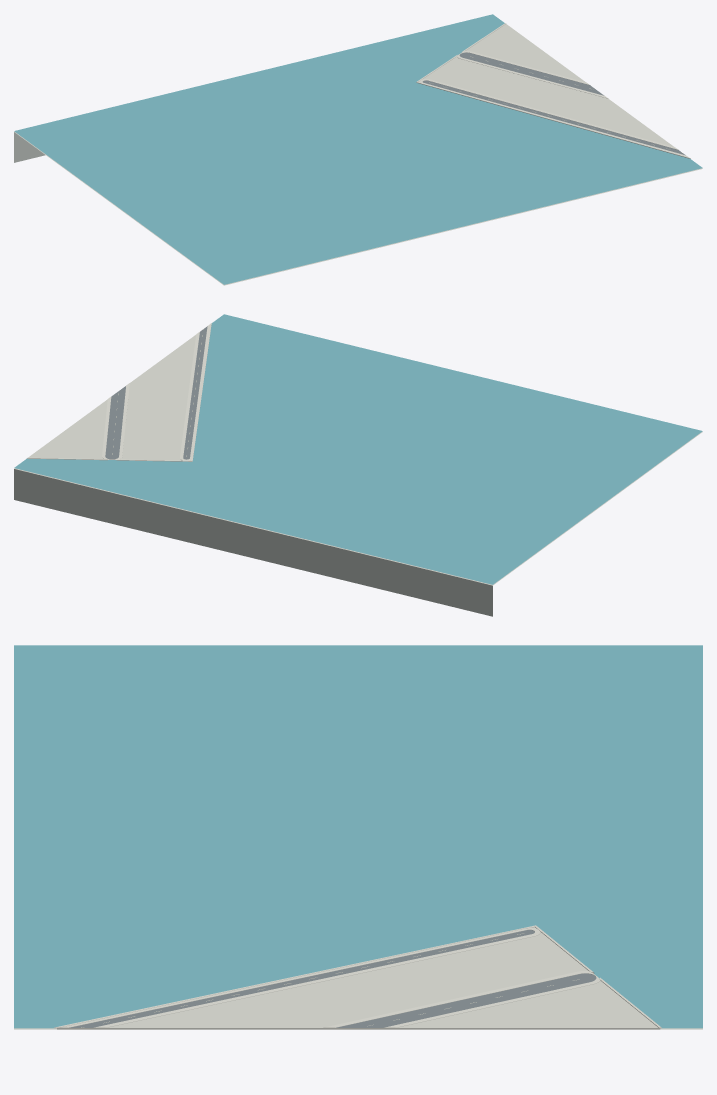
3 renders of one model, top to bottom at view 1: azimuth 30°, elevation 25°; view 2: azimuth 150°, elevation 25°; view 3: azimuth 270°, elevation 25°, orthographic. The views are drawn at different scales.
Parts seen in each view (by area): view 1: city; view 2: city; view 3: city.
Part boxes in pixels (x1,y1,x2,y2): city: [14, 14, 702, 285]; city: [14, 314, 702, 616]; city: [14, 645, 702, 1029].
Size of the model in its own units: 500 by 32.38 by 380.
